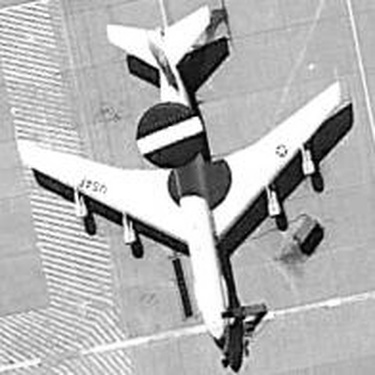airplane: (10, 3, 362, 369)
